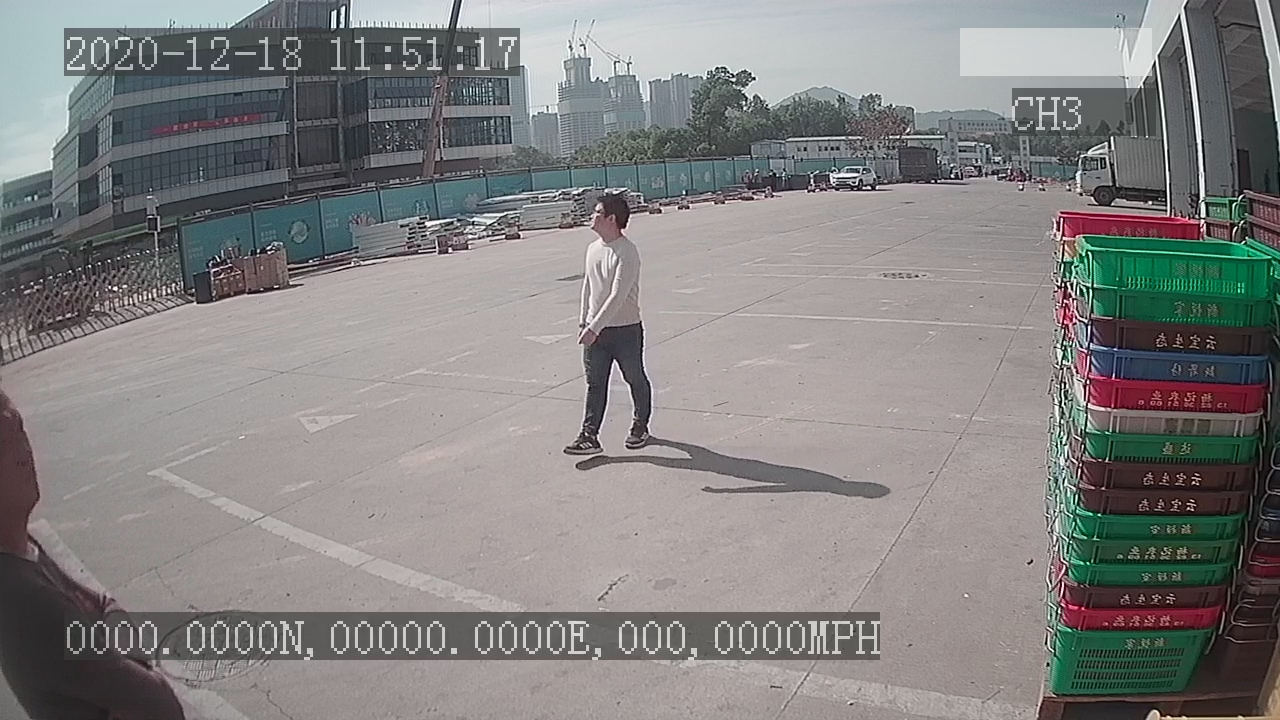person: (556, 192, 659, 463)
